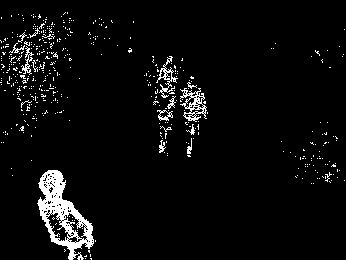person: (42, 164, 91, 260), (183, 76, 206, 161), (156, 78, 172, 155)
